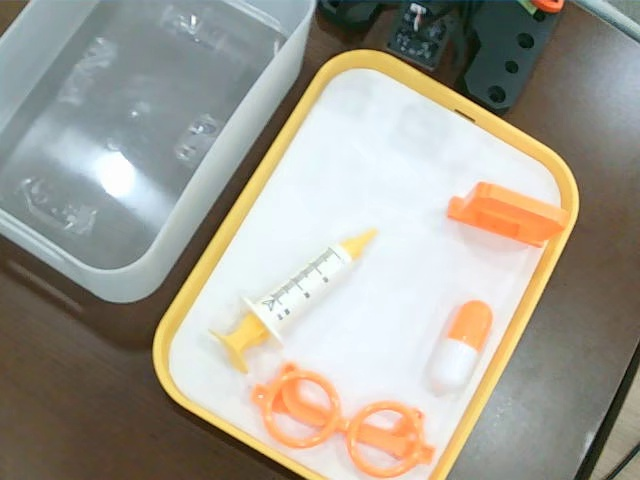pill: (429, 300, 494, 396)
syringe: (208, 227, 379, 375)
